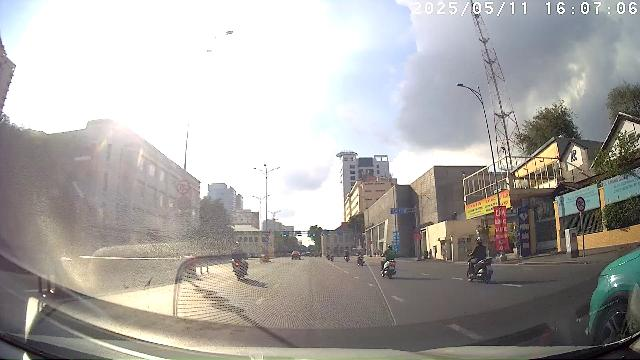124b-cam-oto-quay-dau-xe: (576, 196, 586, 212)
